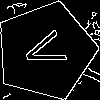V: (21, 26, 77, 73)
